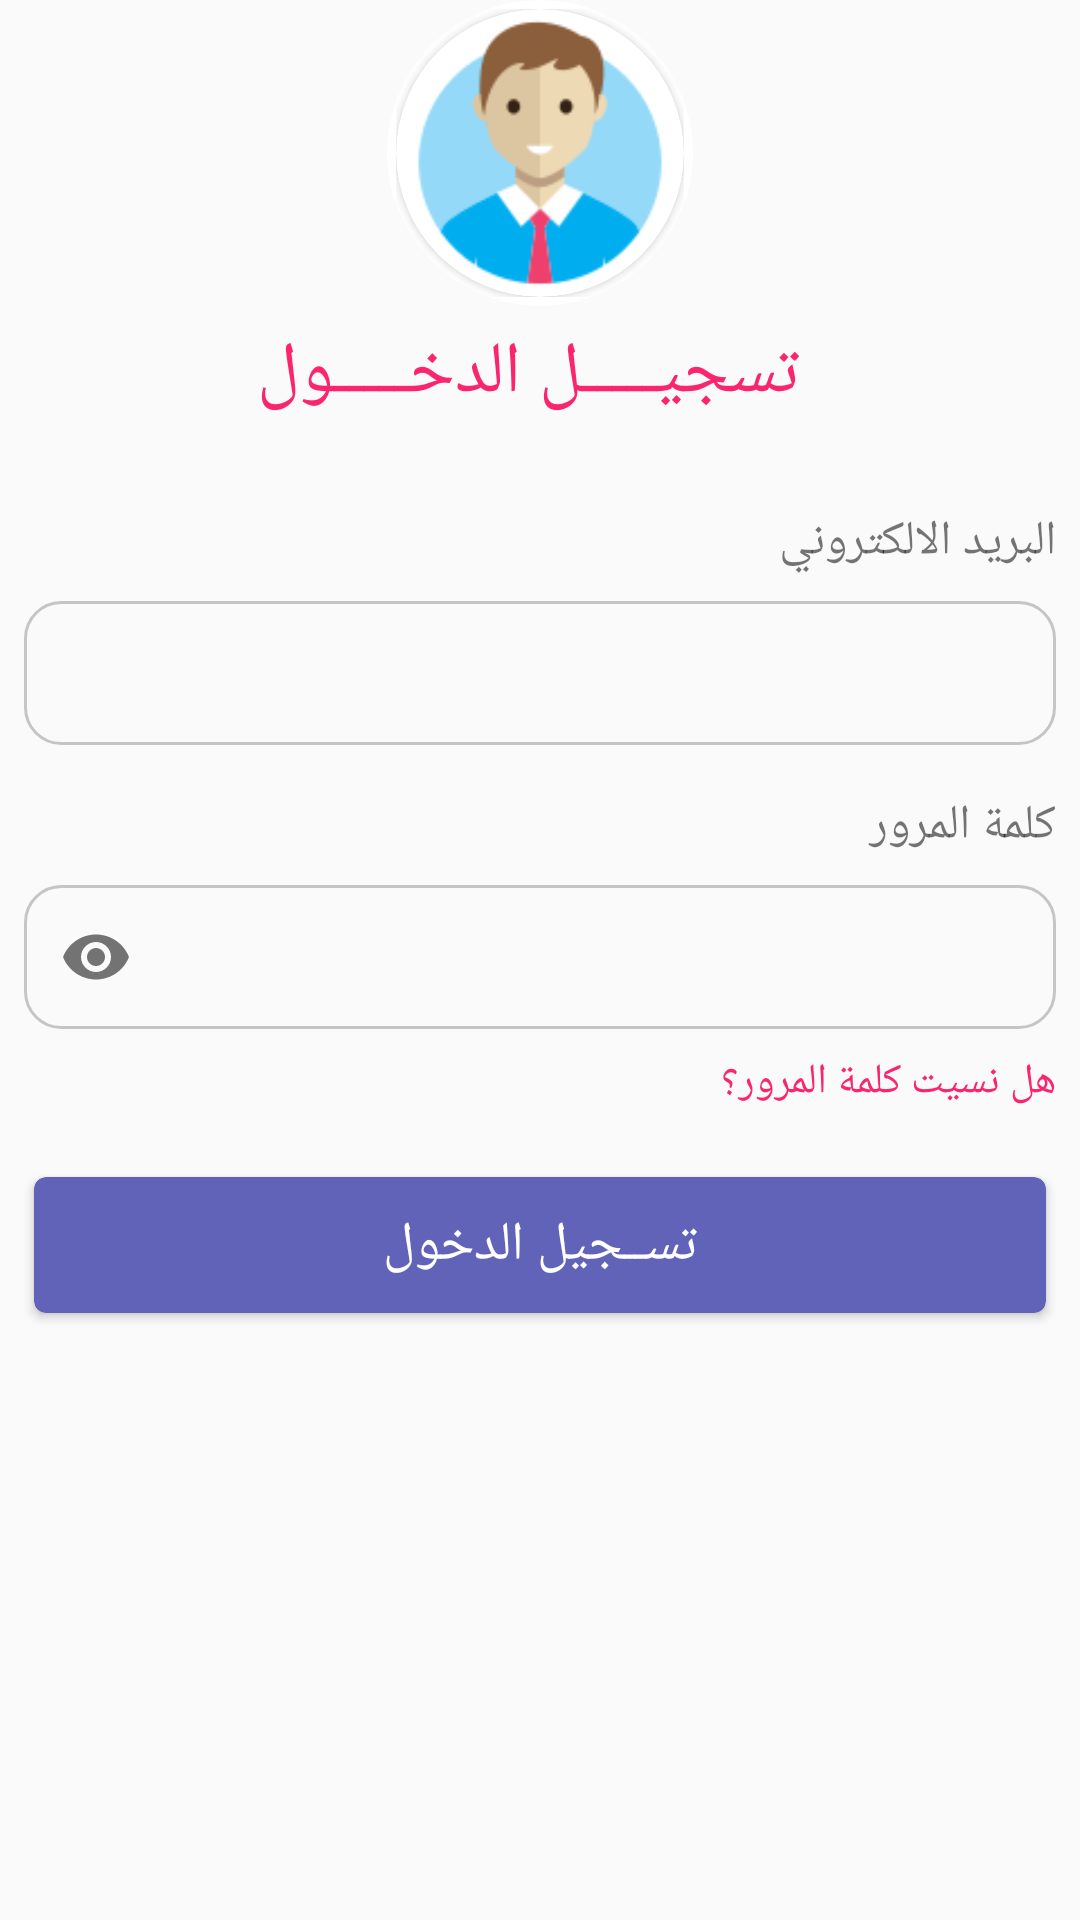

Locate icon controls on the screen. Image size 1080px×1920px, boxes as (x1, y1, x2, y2).
male: (418, 21, 662, 297)
